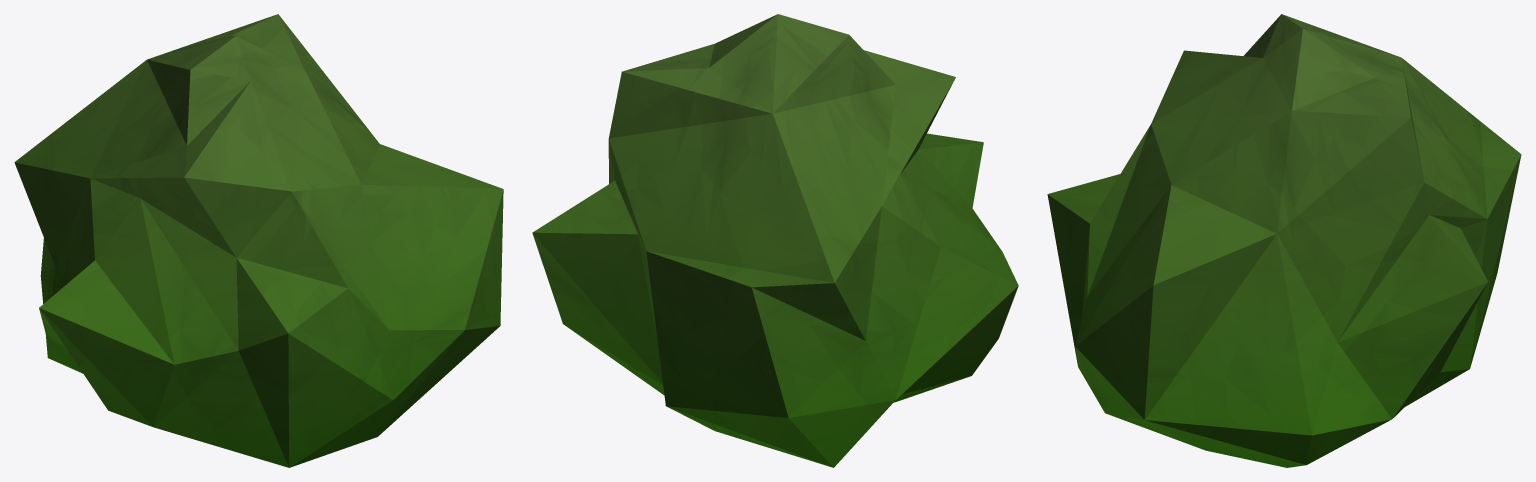
File: synty-plant-bush-03.gltf
3 views of the same model, side by side, from view 1: azimuth 30°, elevation 25°; view 2: azimuth 150°, elevation 25°; view 3: azimuth 270°, elevation 25° (orthographic). The views are drawn at different scales.
Visible parts, largest first — view 1: SM_Plant_Bush_03; view 2: SM_Plant_Bush_03; view 3: SM_Plant_Bush_03.
Boxes of the visible parts, <box> form: SM_Plant_Bush_03: <box>14,14,503,467</box>; SM_Plant_Bush_03: <box>532,14,1018,467</box>; SM_Plant_Bush_03: <box>1047,14,1521,467</box>.
Size of the model in its own units: 2.08 by 1.87 by 2.
Materials: 1 (1 with a texture image).
